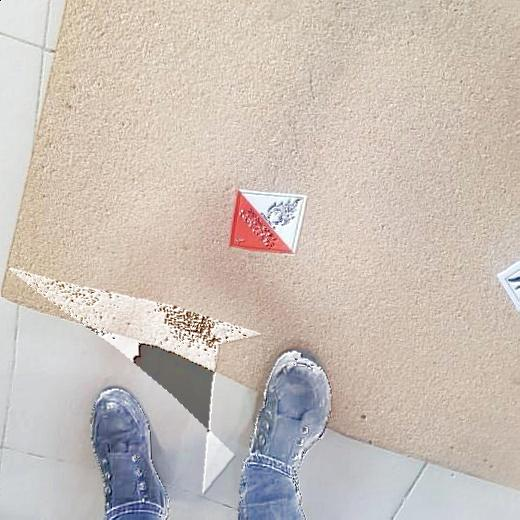spontaneously-combustible: (231, 187, 309, 256)
